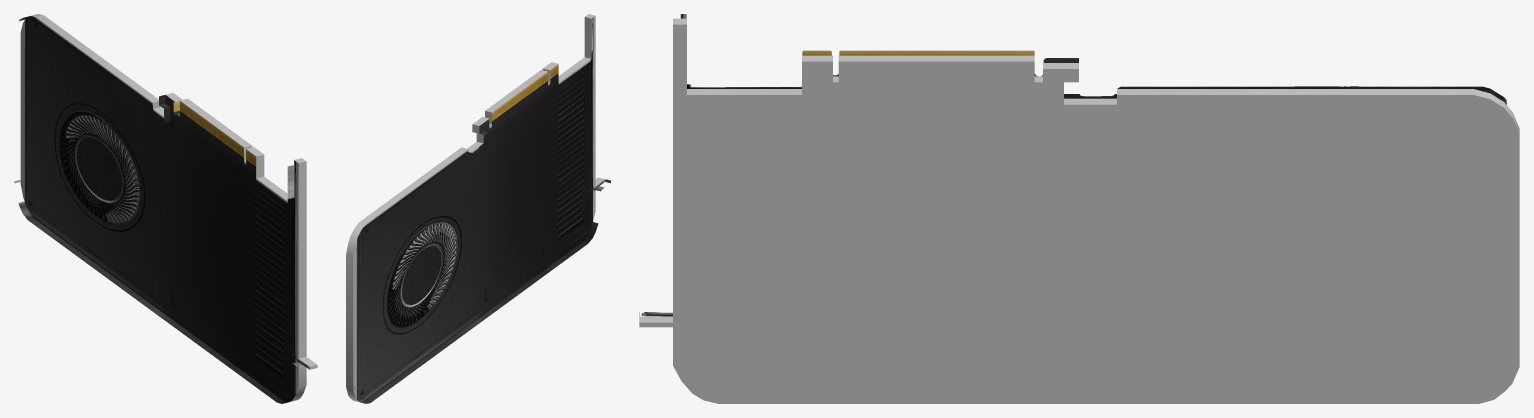
The model's file is GPU.obj.
3 views of the same model, side by side, from view 1: azimuth 30°, elevation 25°; view 2: azimuth 150°, elevation 25°; view 3: azimuth 270°, elevation 25° (orthographic). The views are drawn at different scales.
Visible parts, largest first — view 1: Plano_Plano.002, Plano.002_Plano.003; view 2: Plano_Plano.002, Plano.002_Plano.003; view 3: Plano.002_Plano.003, Plano_Plano.002.
Part boxes in pixels (bbox=[...]): Plano_Plano.002: bbox=[14, 16, 309, 403]; Plano.002_Plano.003: bbox=[20, 14, 317, 402]; Plano_Plano.002: bbox=[353, 18, 610, 403]; Plano.002_Plano.003: bbox=[346, 14, 604, 402]; Plano.002_Plano.003: bbox=[639, 18, 1519, 403]; Plano_Plano.002: bbox=[639, 14, 1506, 316].
Size of the model in its own units: 0.0488 by 0.8035 by 1.69.
